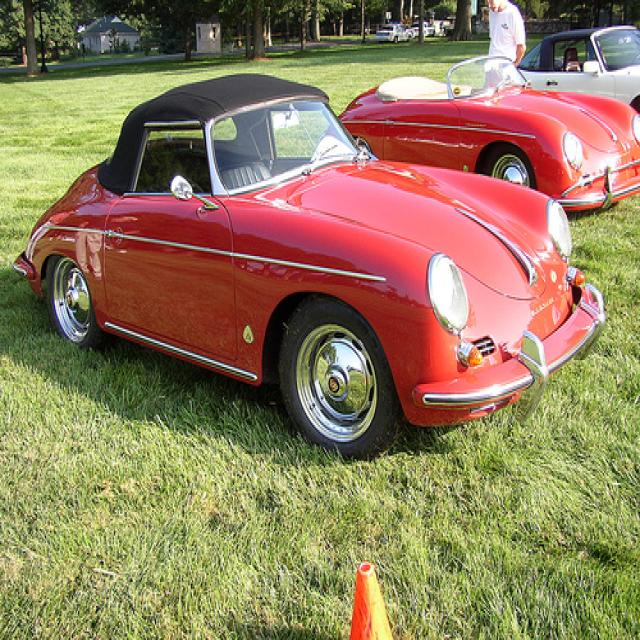light_vehicle: (12, 72, 606, 452), (325, 53, 639, 213), (520, 22, 638, 111), (374, 20, 414, 44), (408, 22, 433, 39)
